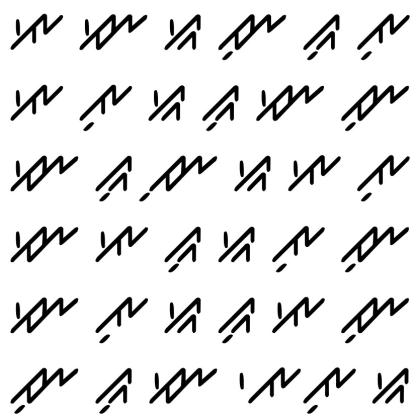e: (230, 358, 301, 405), (7, 75, 67, 129), (266, 289, 326, 339), (284, 144, 342, 194), (91, 219, 151, 264), (8, 10, 66, 52)
ngge: (362, 357, 410, 407), (228, 149, 276, 196), (145, 80, 190, 128), (160, 292, 205, 338), (212, 221, 257, 264), (159, 13, 204, 52)
nggu: (88, 354, 134, 415), (193, 77, 241, 133), (161, 223, 204, 278), (89, 153, 136, 201), (217, 294, 257, 350), (300, 10, 342, 62)
nje: (146, 357, 220, 413), (5, 285, 80, 337), (245, 77, 324, 126), (2, 150, 82, 196), (7, 218, 82, 267), (75, 7, 150, 55)
nju: (335, 218, 410, 276), (215, 7, 288, 66), (139, 153, 219, 206), (337, 76, 410, 134), (5, 364, 81, 416), (335, 294, 411, 344)
u: (76, 78, 135, 135), (91, 292, 150, 348), (265, 220, 325, 274), (304, 362, 359, 416), (353, 154, 411, 204), (357, 9, 411, 61)
